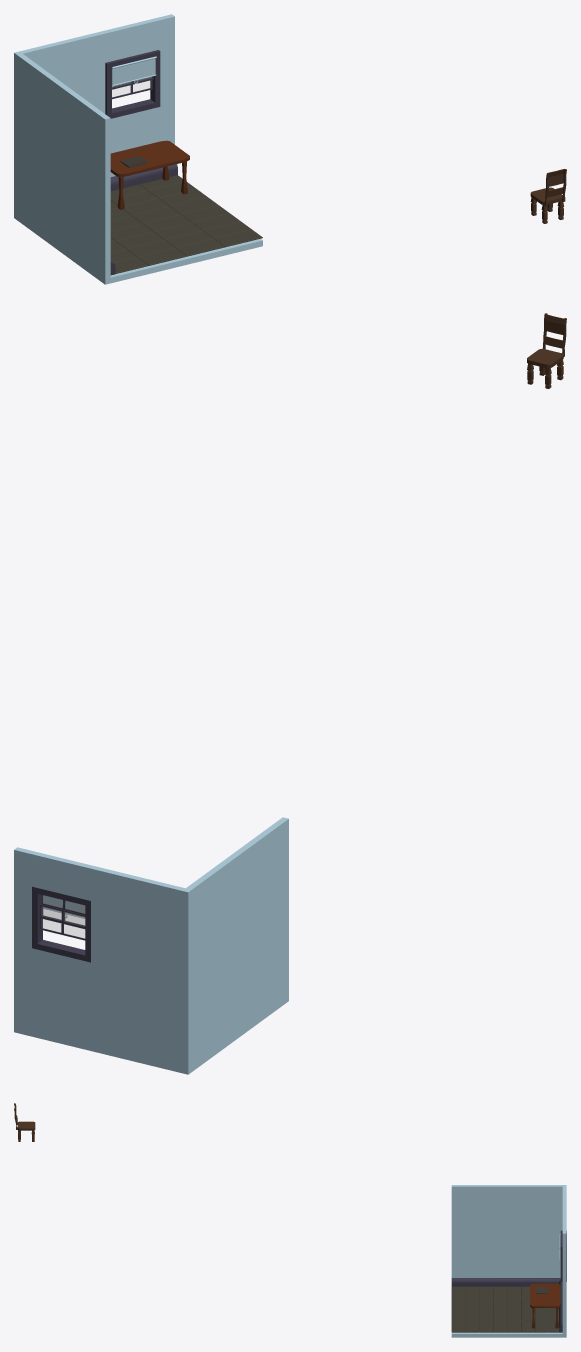
The model's file is darkroomwith3animations.glb.
3 views of the same model, one above another, from view 1: azimuth 30°, elevation 25°; view 2: azimuth 150°, elevation 25°; view 3: azimuth 270°, elevation 25° (orthographic). The views are drawn at different scales.
Parts seen in each view (by area): view 1: Room, Floor, Desk, Window, CHair, WindowShade, Trim, WindowPane.001; view 2: Room, Window, CHair, WindowPane.001; view 3: Room, Floor, Trim, Desk, CHair.
Part boxes in pixels (x1,y1,x2,y2): Room: (14, 14, 262, 284); Floor: (110, 175, 262, 273); Desk: (110, 140, 189, 209); Window: (105, 50, 160, 118); CHair: (530, 169, 566, 223); WindowShade: (112, 56, 156, 85); Trim: (110, 164, 177, 275); WindowPane.001: (112, 77, 152, 99); Room: (14, 817, 288, 1074); Window: (32, 886, 90, 962); CHair: (527, 313, 566, 388); WindowPane.001: (40, 904, 85, 940); Room: (451, 1185, 566, 1337); Floor: (451, 1286, 558, 1332); Trim: (451, 1278, 562, 1332); Desk: (530, 1283, 560, 1328); CHair: (14, 1103, 35, 1141).
Size of what is drawn, in the model's own units: 10 by 20.65 by 48.09.
